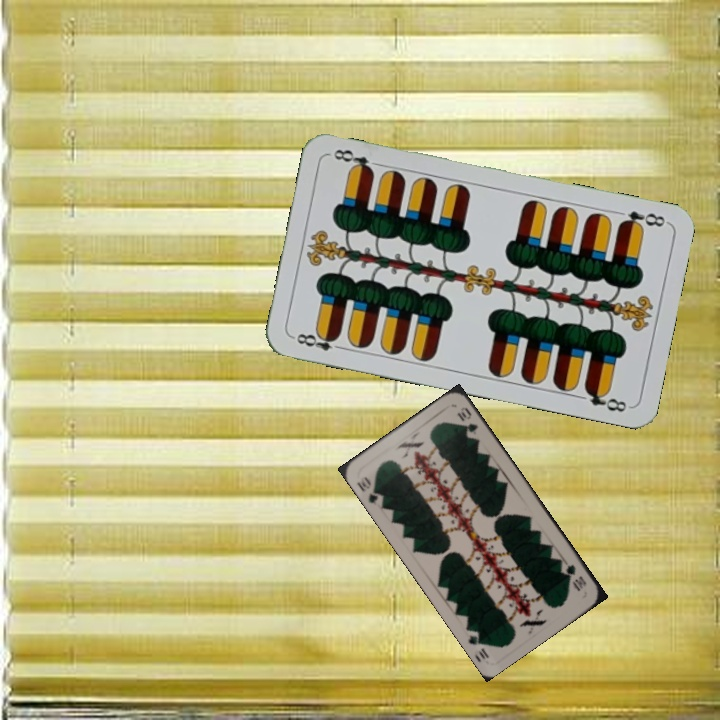E8: (289, 328, 348, 354), (614, 207, 669, 232)
G10: (353, 472, 386, 508), (562, 560, 589, 593)
